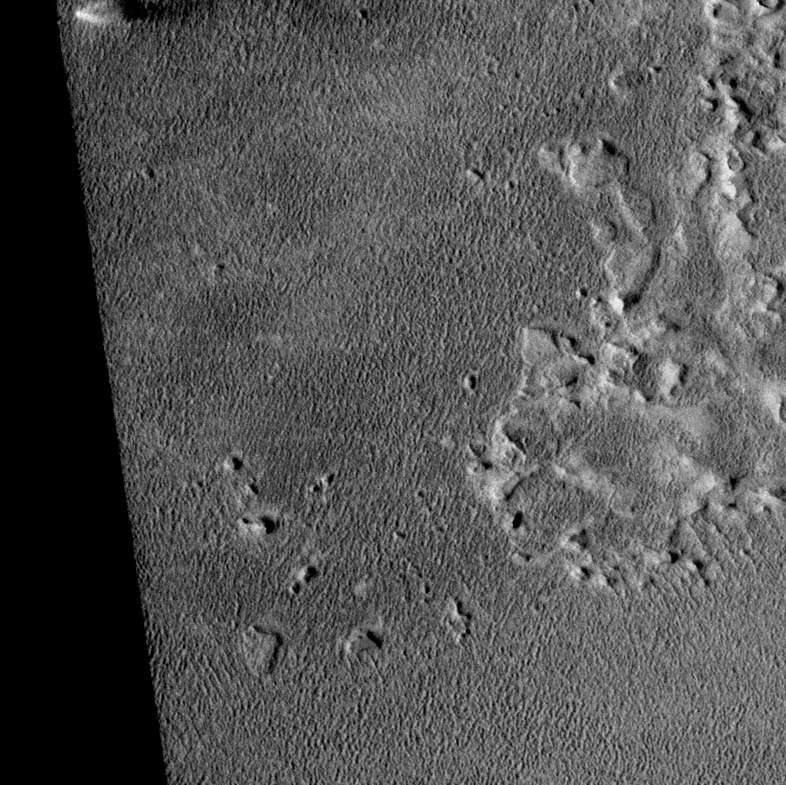dust_devil: (72, 1, 210, 29)
